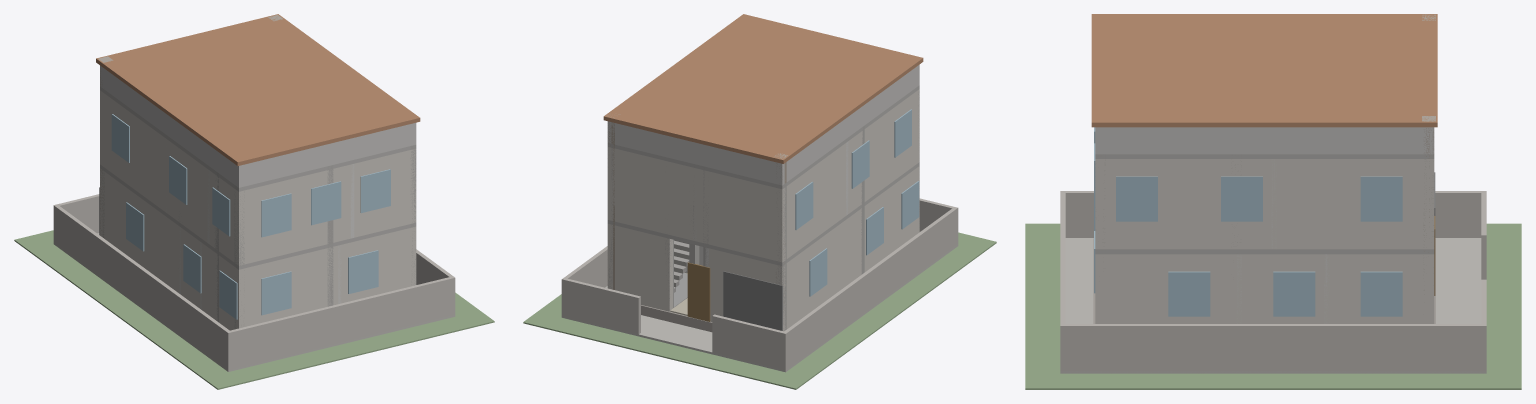
File: villa_30x40.glb
3 views of the same model, side by side, from view 1: azimuth 30°, elevation 25°; view 2: azimuth 150°, elevation 25°; view 3: azimuth 270°, elevation 25° (orthographic). The views are drawn at different scales.
Parts seen in each view (by area): view 1: world; view 2: world; view 3: world.
Boxes of the visible parts, x1=… form: world: x1=14, y1=14, x2=494, y2=389; world: x1=523, y1=14, x2=996, y2=389; world: x1=1025, y1=14, x2=1521, y2=389.
Bounding box in the file's own units: 11.14 × 7.55 × 14.19.
